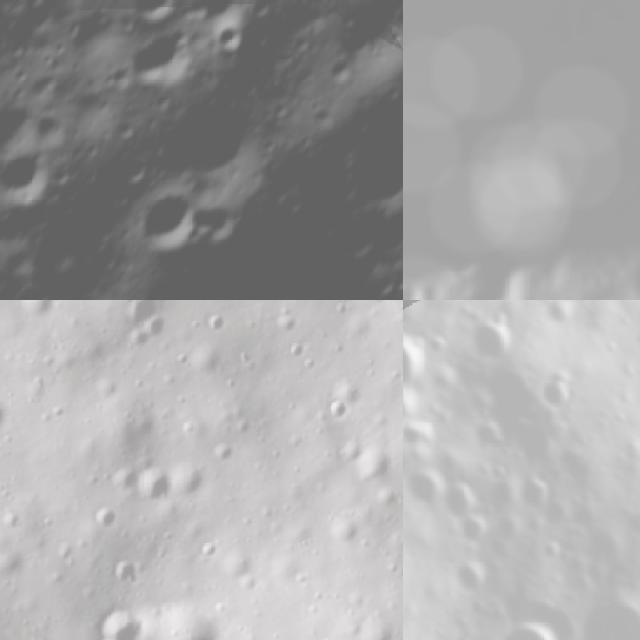crater: (162, 92, 256, 190), (127, 173, 209, 261), (333, 127, 403, 213), (0, 123, 58, 214), (126, 23, 191, 94), (106, 300, 179, 360), (201, 2, 264, 68), (329, 198, 388, 267), (572, 594, 640, 640), (468, 308, 514, 363), (114, 0, 182, 35), (98, 598, 156, 639), (482, 612, 562, 640), (131, 462, 178, 509), (538, 371, 580, 423), (403, 465, 445, 509), (518, 466, 558, 511), (403, 330, 431, 393), (449, 557, 489, 597), (612, 243, 640, 300), (324, 509, 362, 547), (8, 300, 65, 325), (106, 555, 145, 590), (83, 498, 122, 533), (454, 512, 491, 546), (10, 275, 57, 300), (403, 270, 442, 300), (320, 396, 358, 426), (445, 481, 472, 515), (0, 392, 13, 441), (391, 0, 403, 31)
